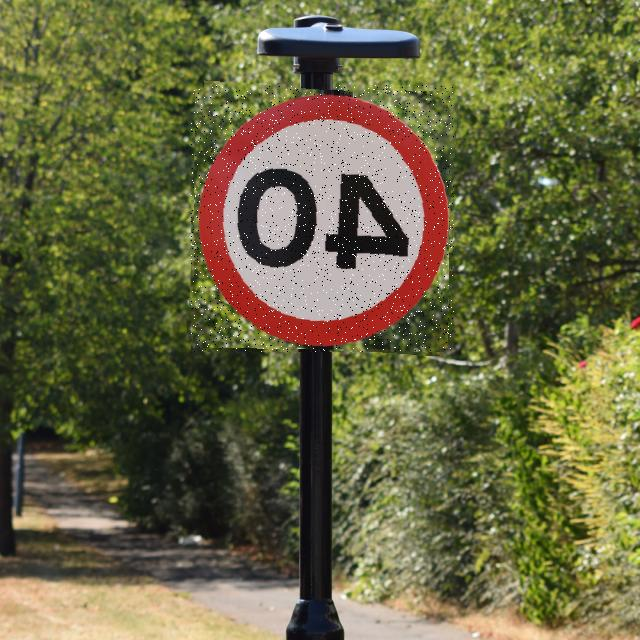speed limit 40: (191, 85, 454, 352)
